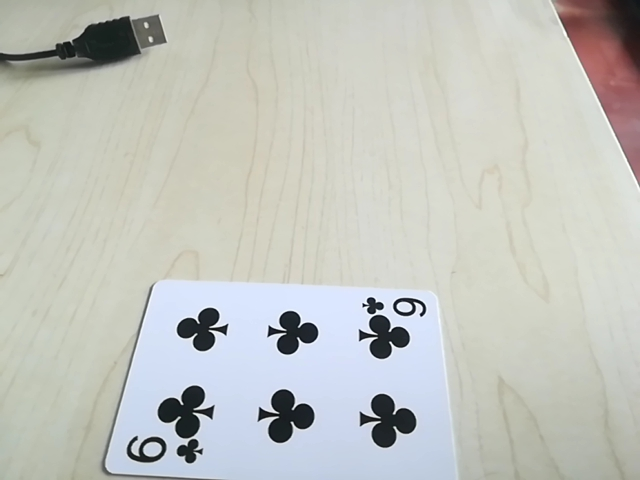mh 6: (120, 437, 205, 469), (361, 292, 430, 322)
